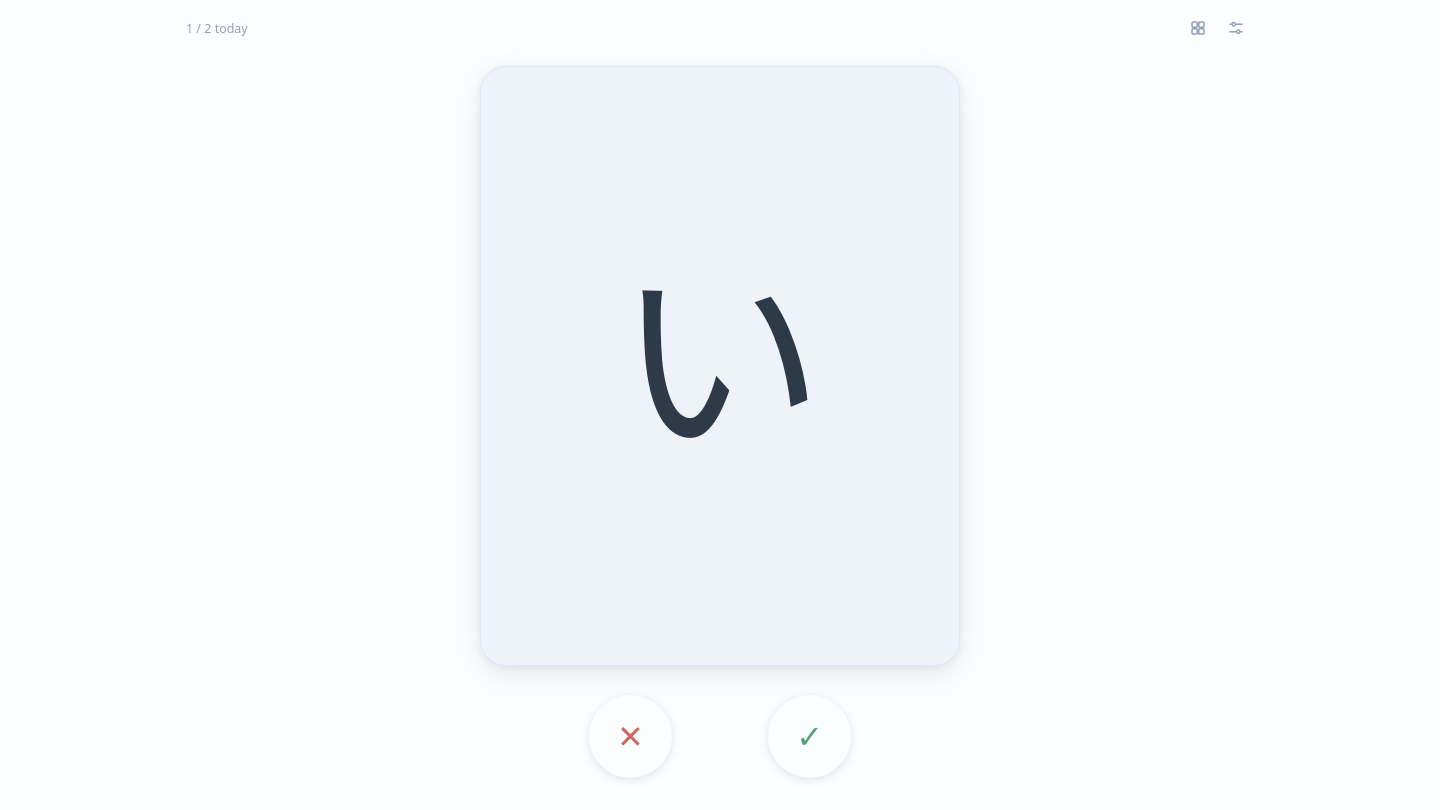
typing test › records a miss and shows the answer when the reading is wrong
Click the button named "I know this" at point(810, 736), box [768,695,851,778]
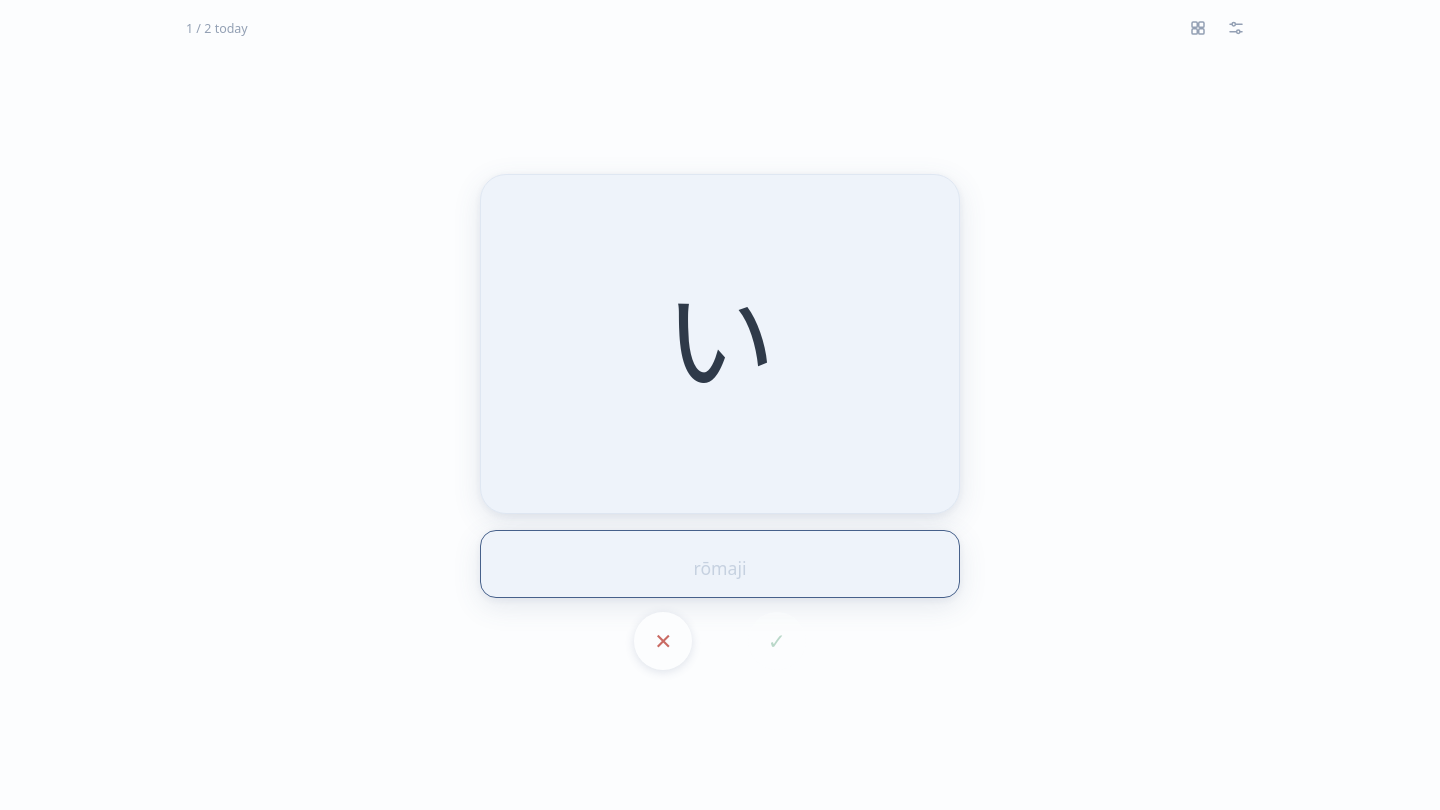
Type "zzz" into the field named "Type the reading in rōmaji" at point(720, 564), box [480,530,960,598]
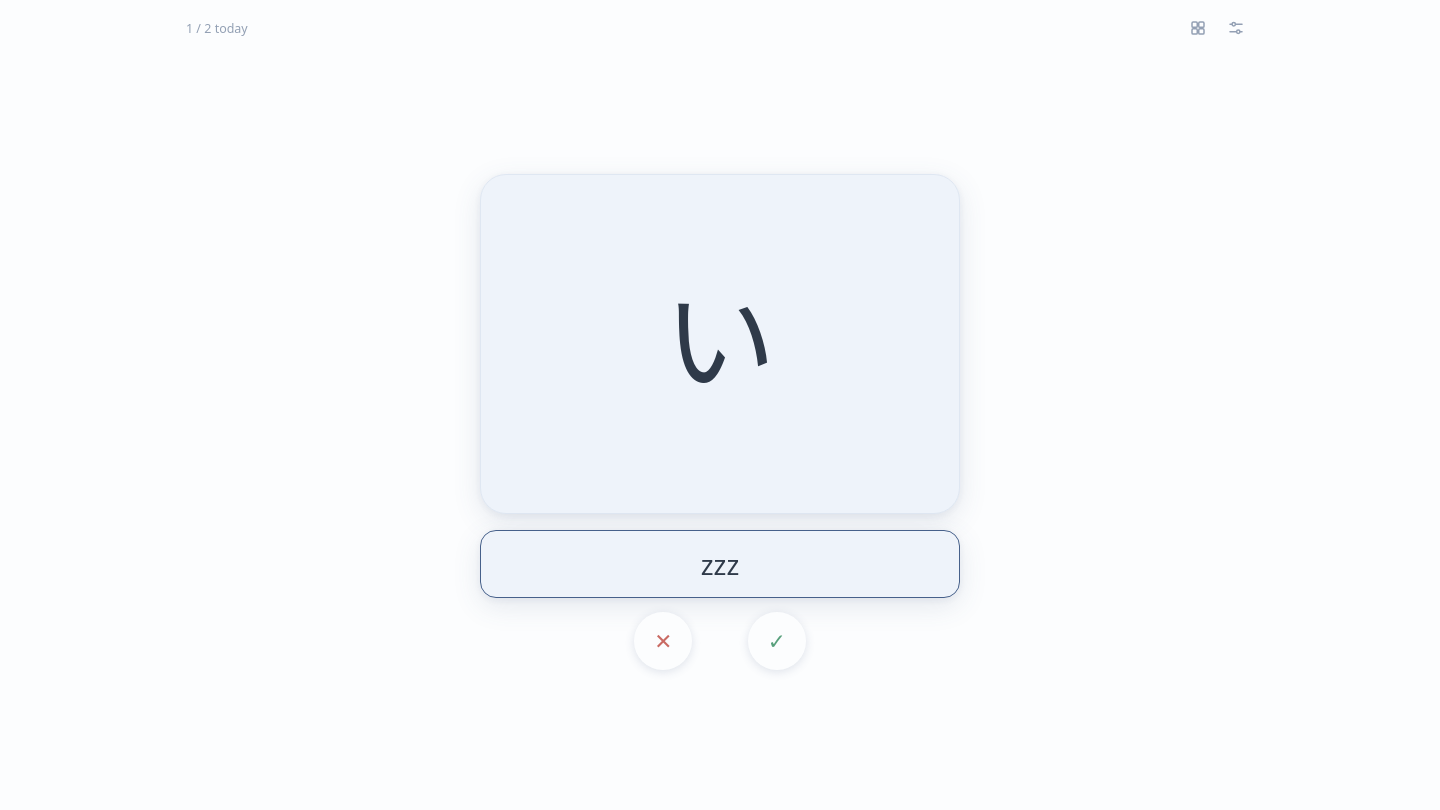
Click the button named "Check my answer" at point(777, 641), box [748,612,806,670]
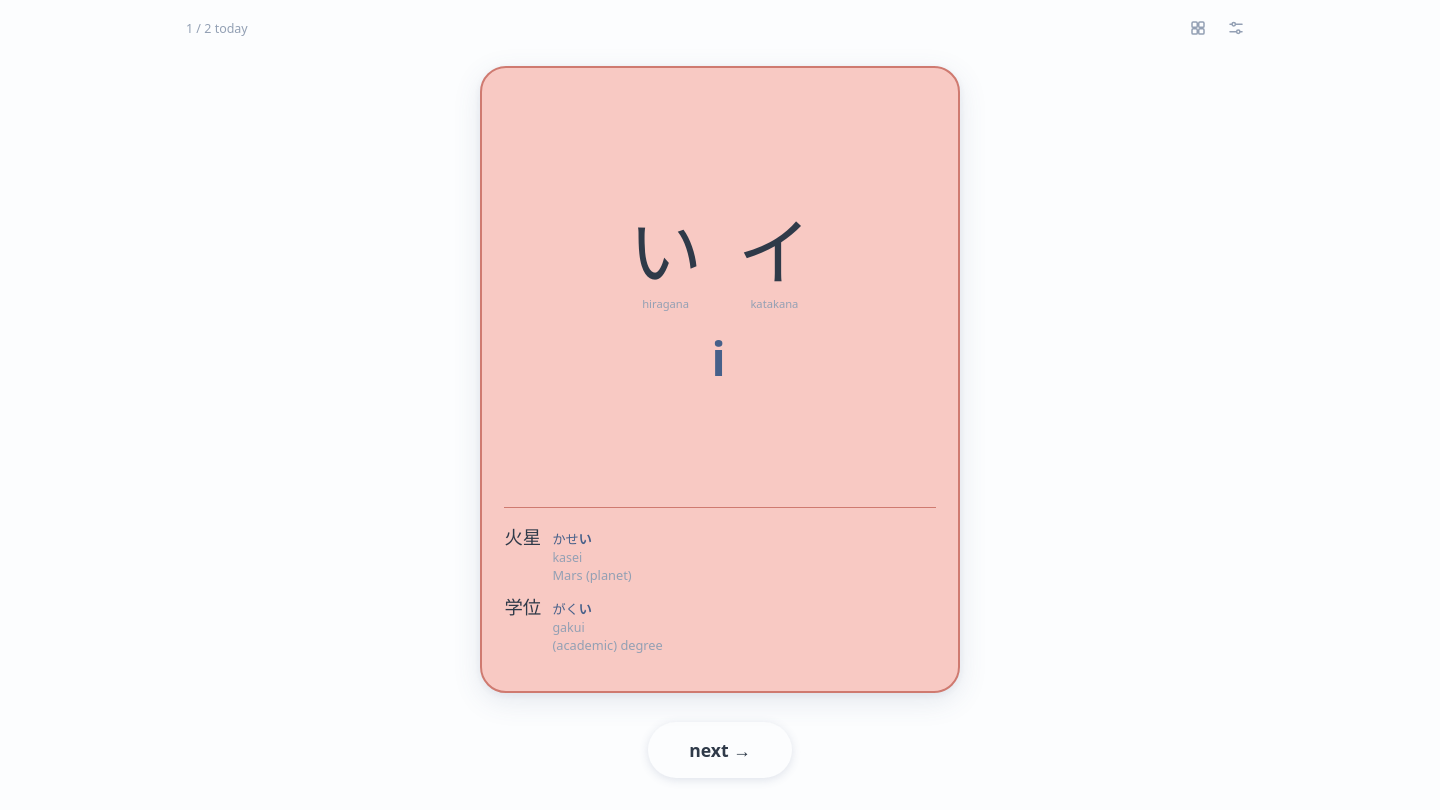
Expected: the text "1 / 2 today" is shown, [186,20,248,37]
Expected: the button "next →" is shown, [648,722,792,778]
Expected: the field labelled "Type the reading in rōmaji" is gone
